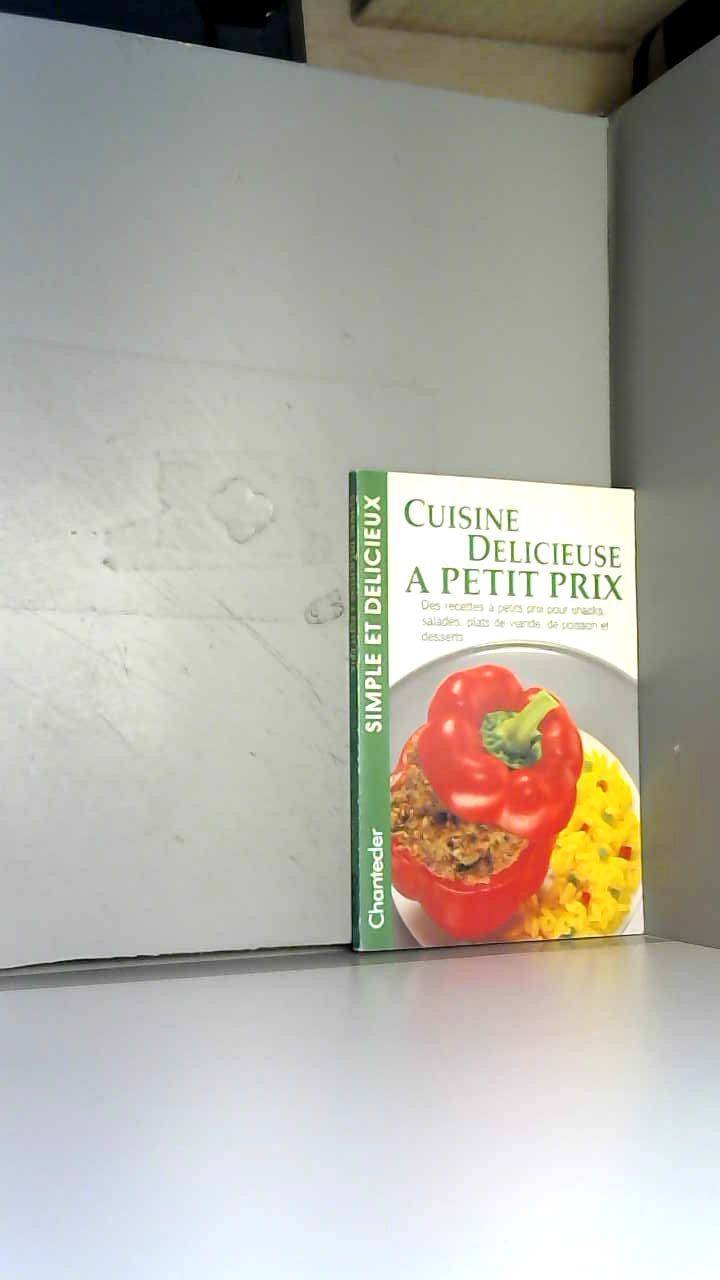book: (314, 436, 699, 996)
